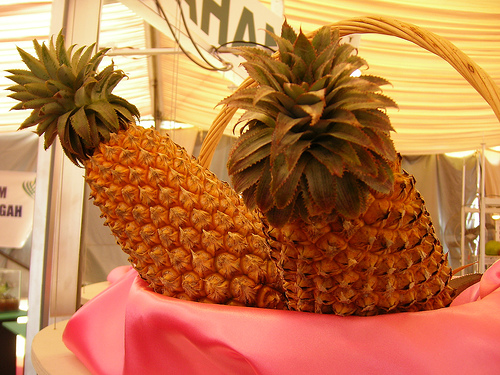pineapple: (1, 26, 285, 309), (219, 19, 457, 319)
